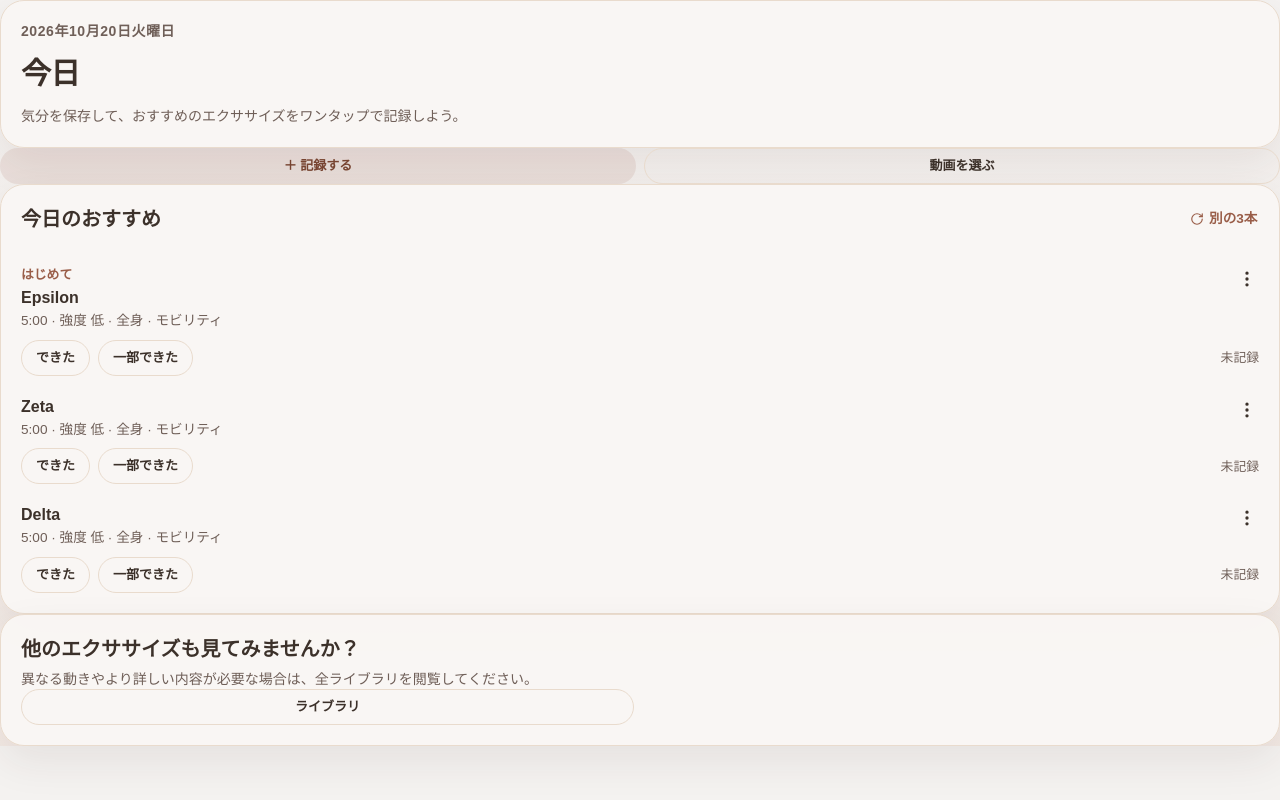
shows an inline alert when a log cannot be saved
Click the button "できた" below "Delta" at (56, 575), box left=21, top=557, right=90, bottom=593
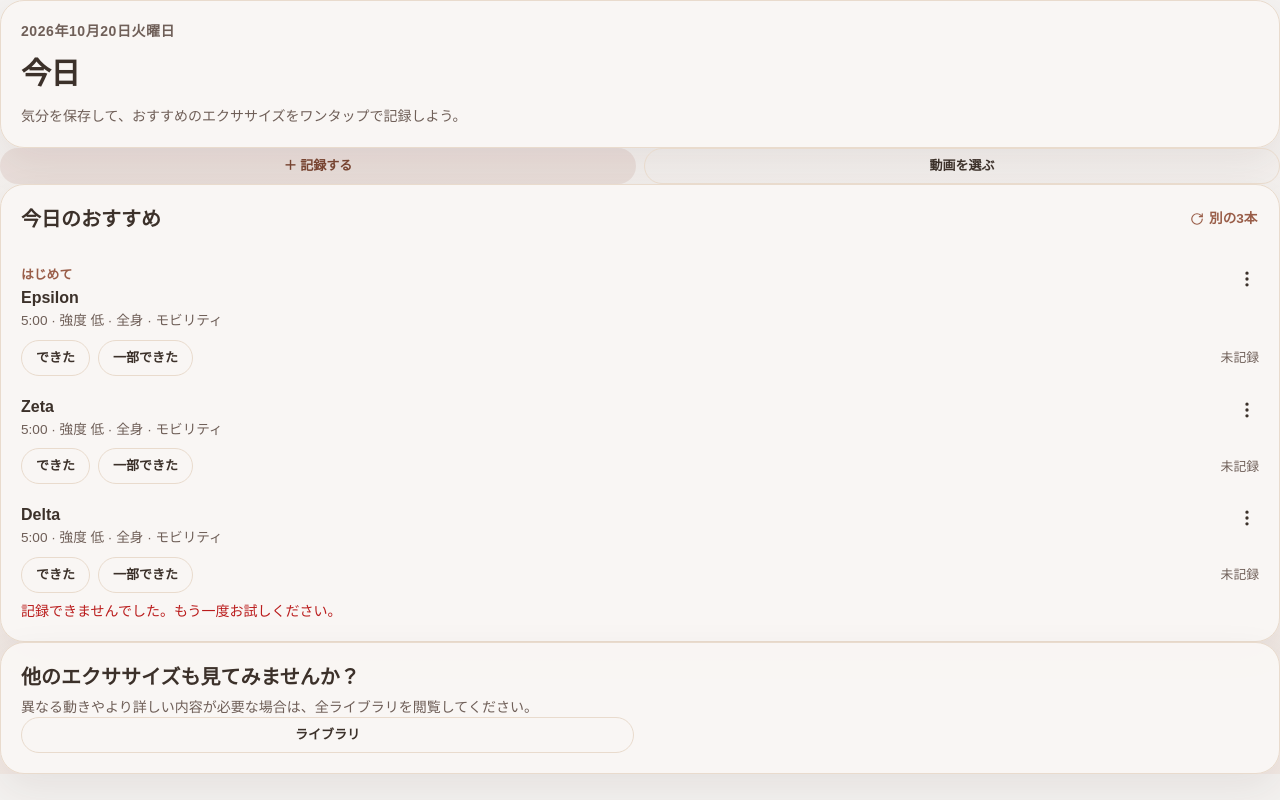
Check: the 3rd text "未記録" is shown, box left=1221, top=565, right=1259, bottom=584
Check: the message reads "記録できませんでした。もう一度お試しください。", box left=21, top=603, right=342, bottom=619
Click the button "できた" below "Delta" at (56, 575), box left=21, top=557, right=90, bottom=593
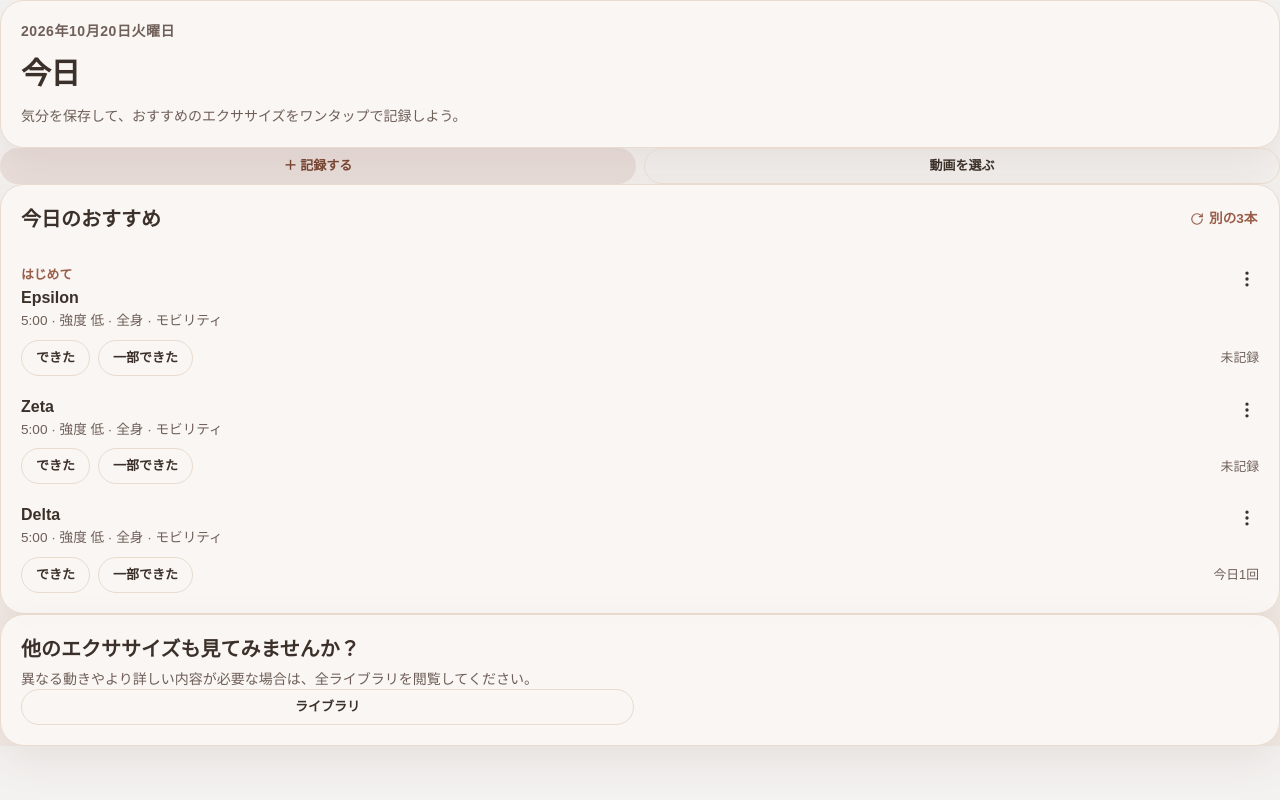
Check: the text "今日1回" is shown, box left=1214, top=565, right=1259, bottom=584
Check: the message "記録できませんでした。もう一度お試しください。" is gone
